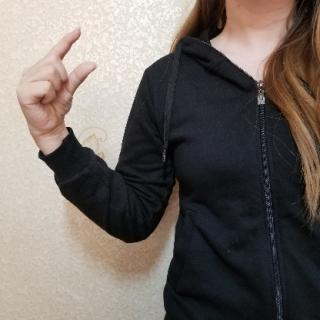DELL: (10, 23, 100, 140)
